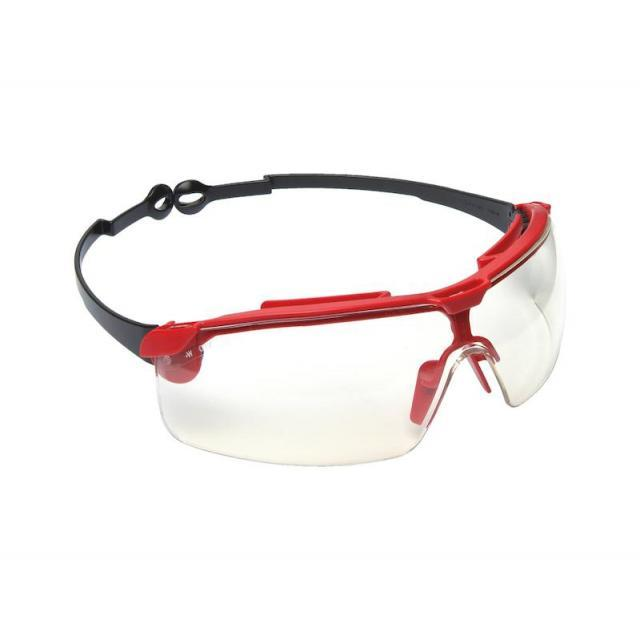Goggles: (53, 160, 595, 470)
